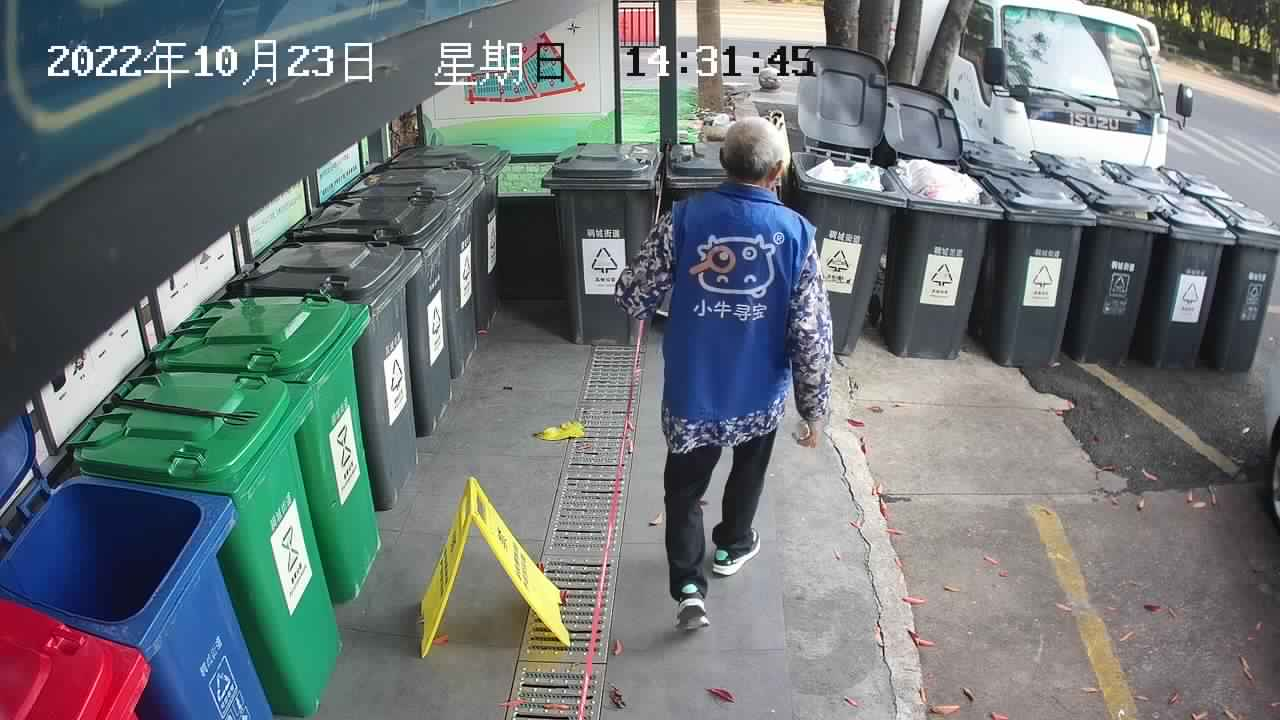worker: (610, 110, 839, 638)
